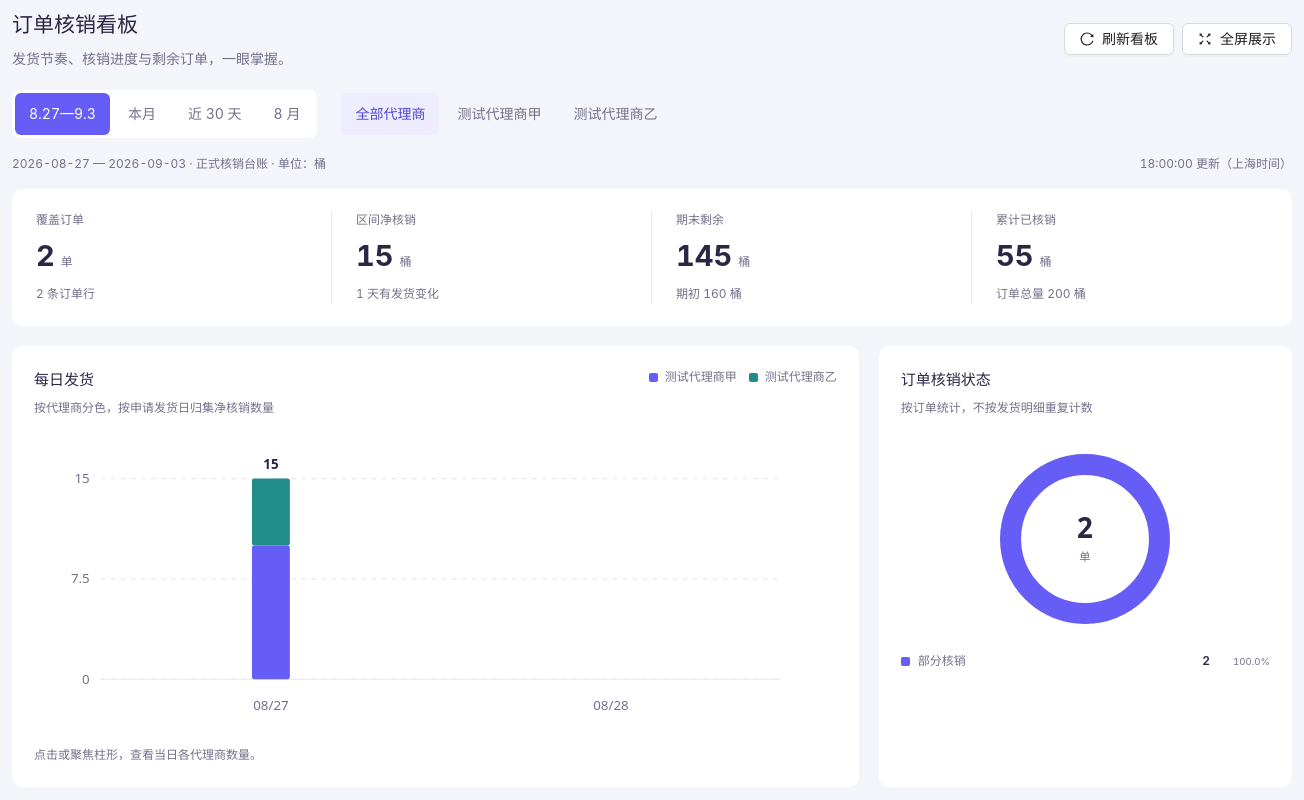
Test: 图表核销看板 › hides stale results, retries and handles empty data
The image size is (1304, 800).
Click the button "刷新看板".
click(1119, 39)  # box top-left (1064, 23), bottom-right (1174, 55)
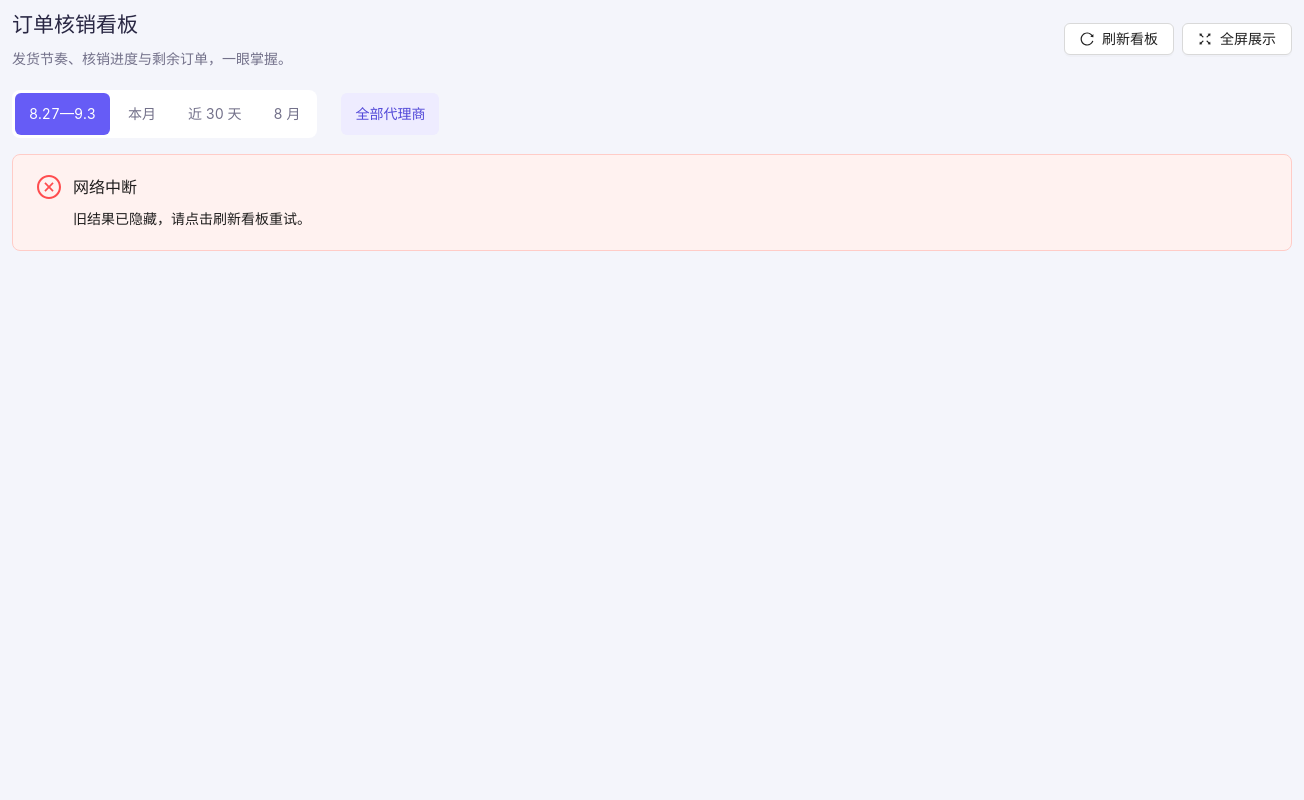
Check: the text "网络中断" is shown, box top-left (73, 177), bottom-right (137, 197)
Click the button "刷新看板".
click(1119, 39)  # box top-left (1064, 23), bottom-right (1174, 55)
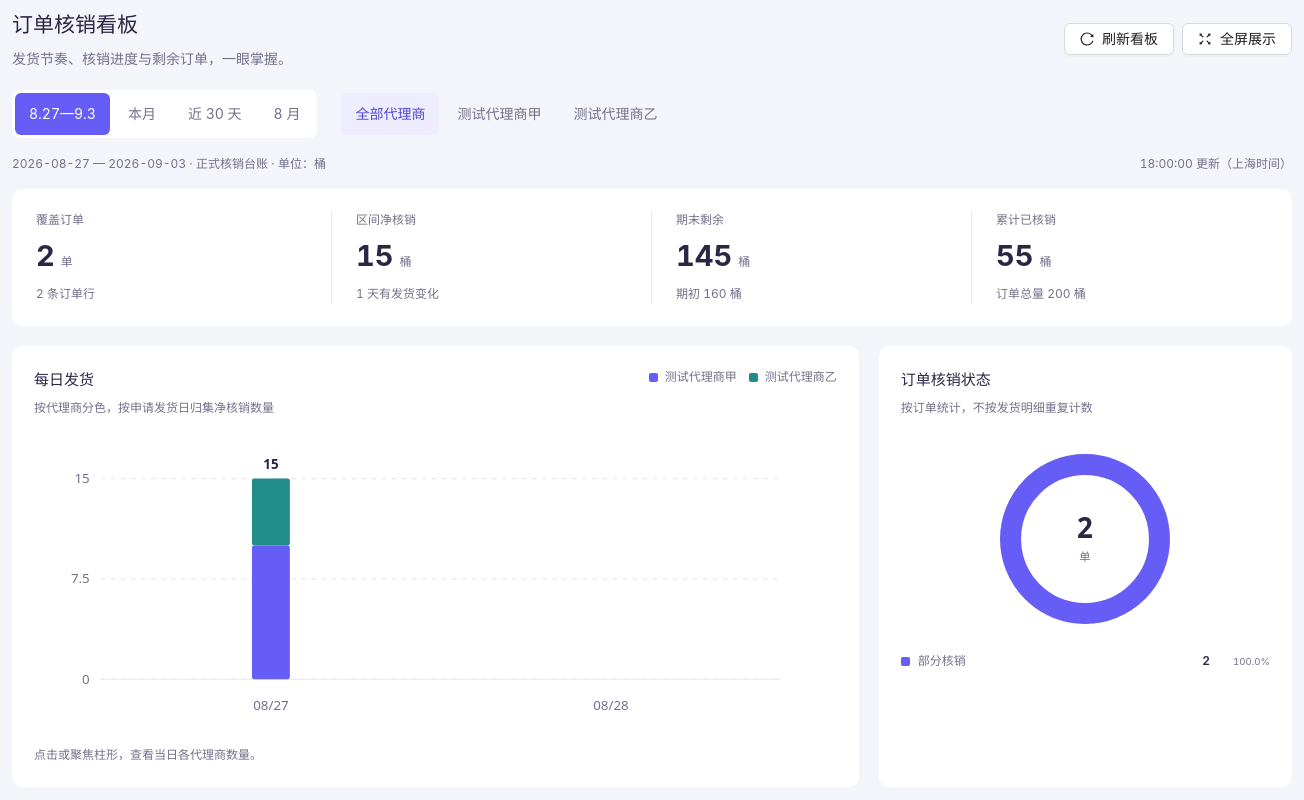
Check: the element with class "board-summary" is shown, box top-left (12, 189), bottom-right (1292, 326)
Click the button "8 月".
click(287, 114)  # box top-left (260, 93), bottom-right (314, 135)
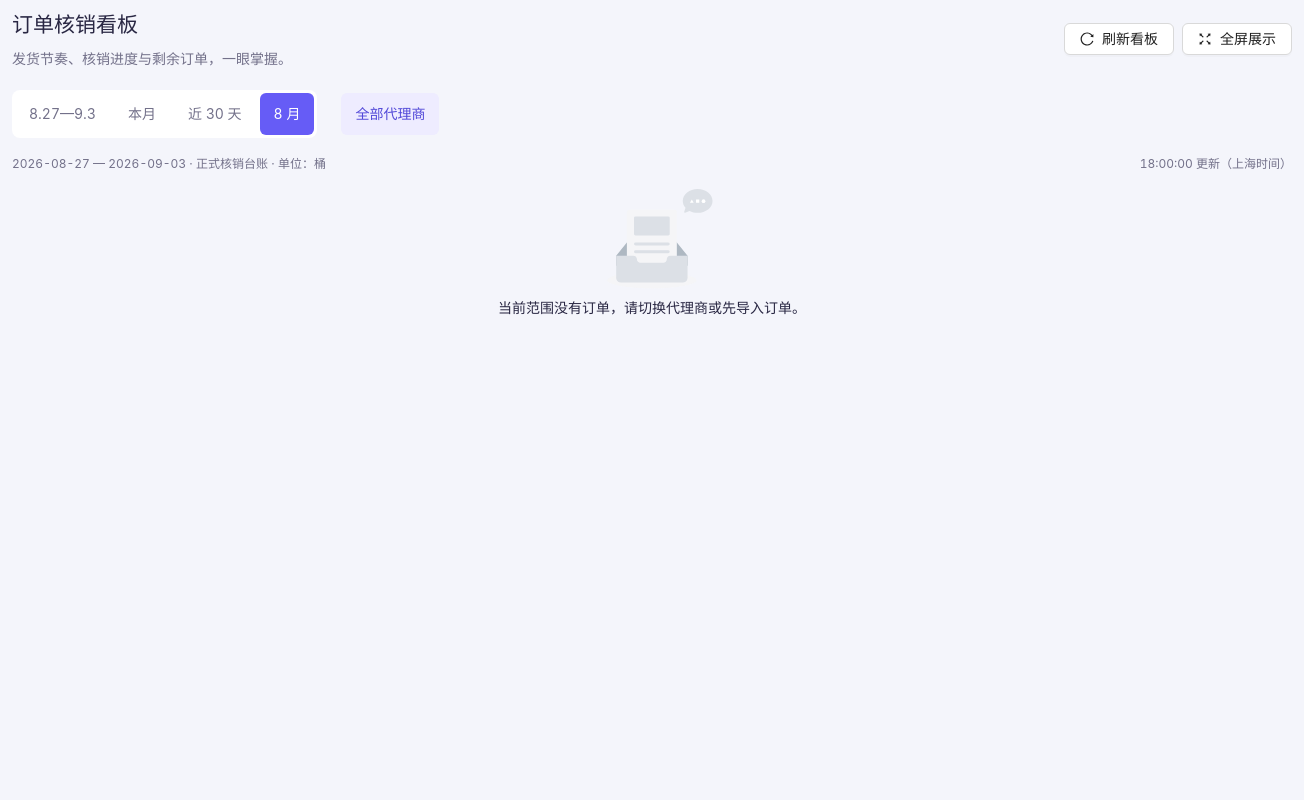
Check: the text "当前范围没有订单" is shown, box top-left (498, 299), bottom-right (806, 316)
